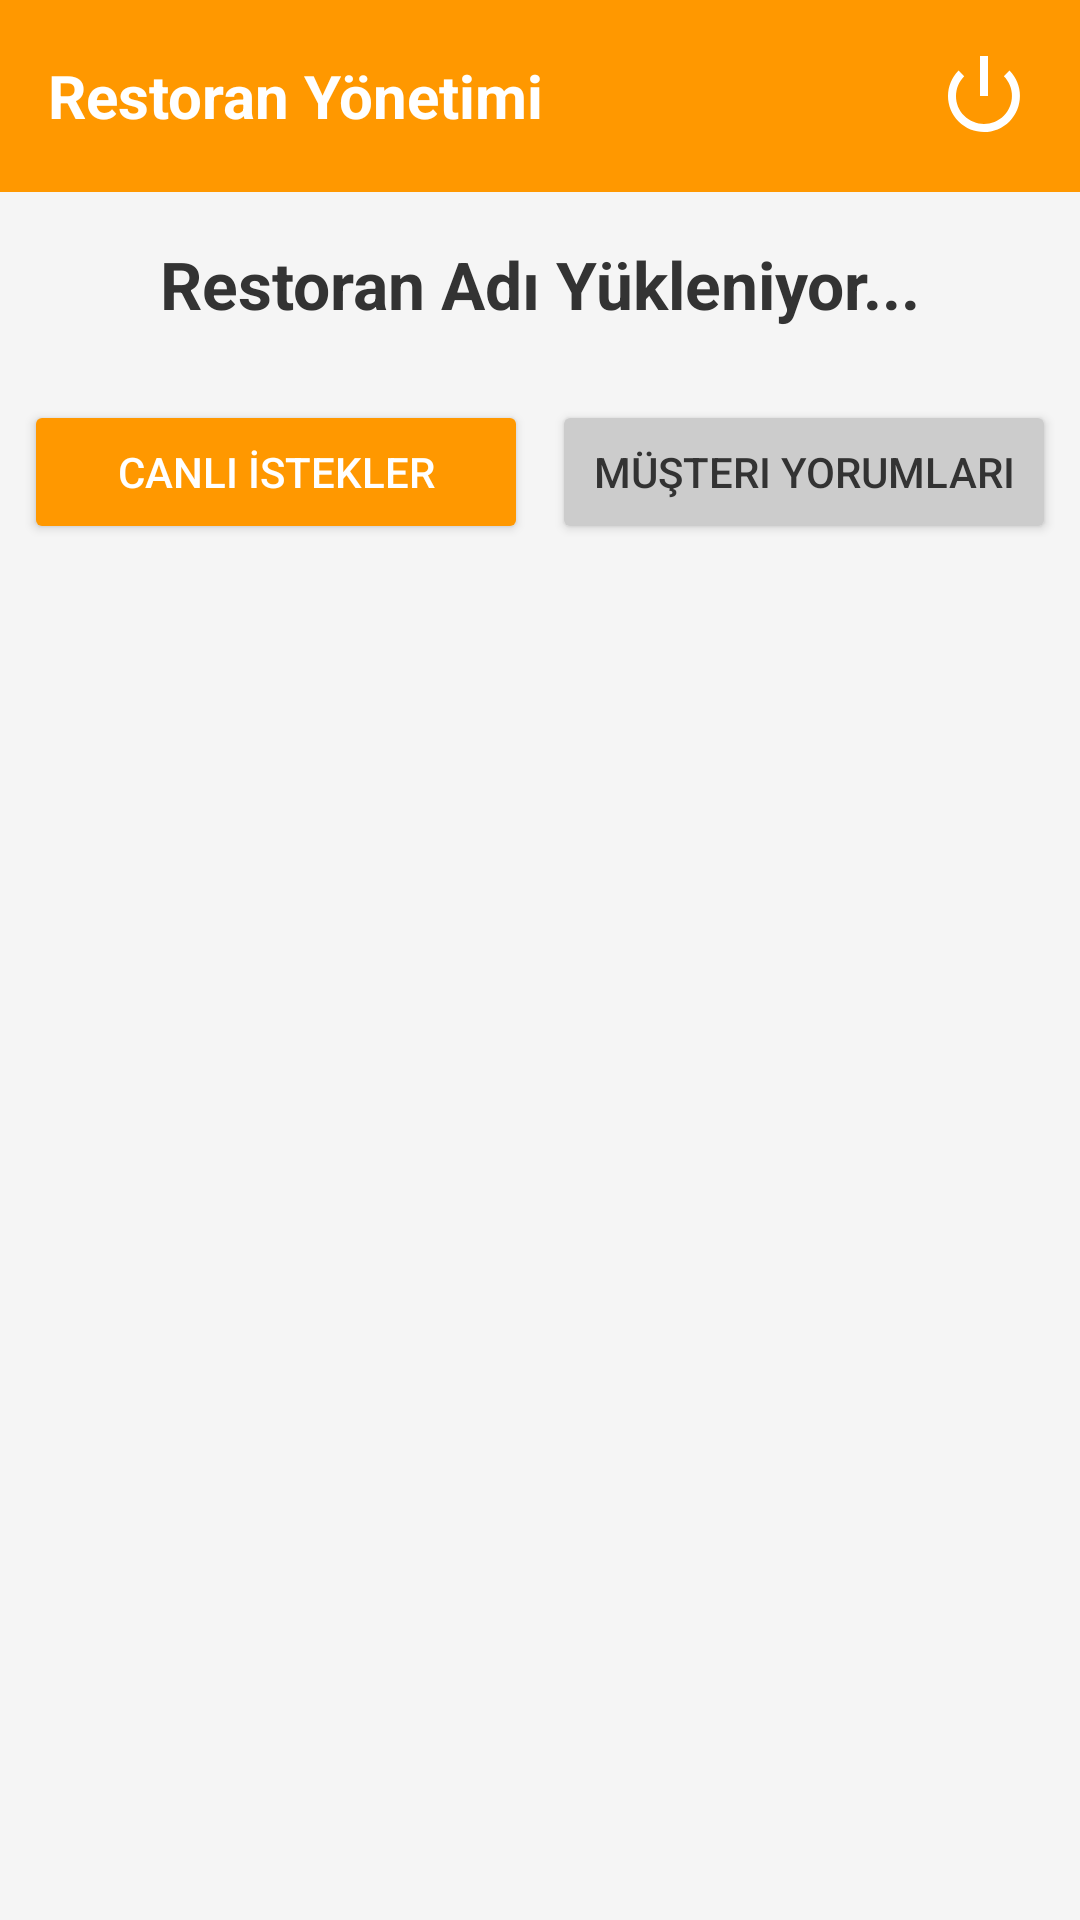

Locate icon controls on the screen. Image size 1080px×1920px, boxes as {"x1": x1, "y1": y1, "x2": x2, "y2": y2}.
Çıkış Yap: {"x1": 948, "y1": 56, "x2": 1020, "y2": 132}
